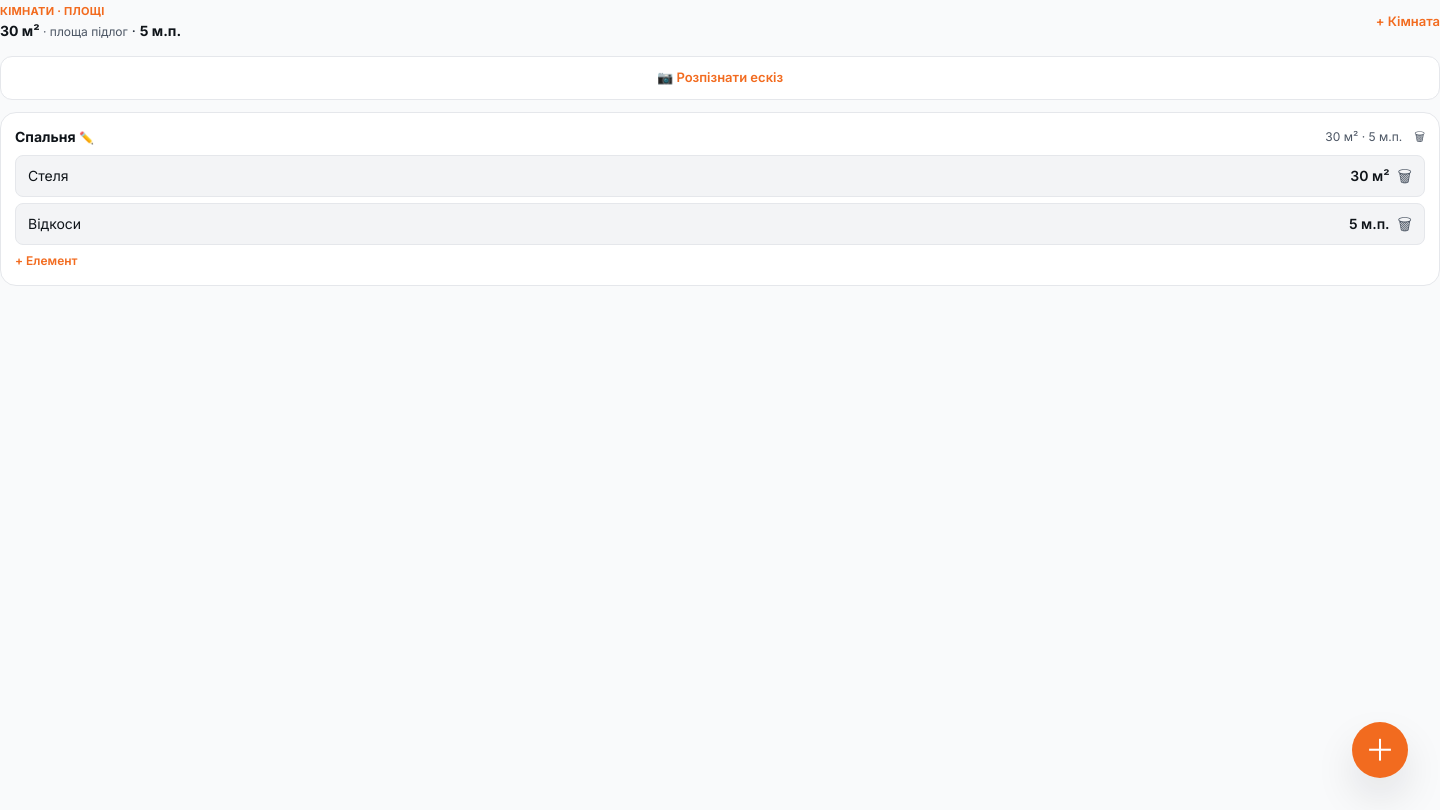
MeasurementsSection — площі vs ⚡ Електрика › PRO: the sketch button opens the sketch sheet
The width and height of the screenshot is (1440, 810).
Expected: the text "Кімнати · площі" is shown, top-left (0, 4), bottom-right (105, 18)
What coordinates should you click on to do the following:
click the button "📷 Розпізнати ескіз"
I would click on:
 (720, 78)
Its box is top-left (0, 56), bottom-right (1439, 100).
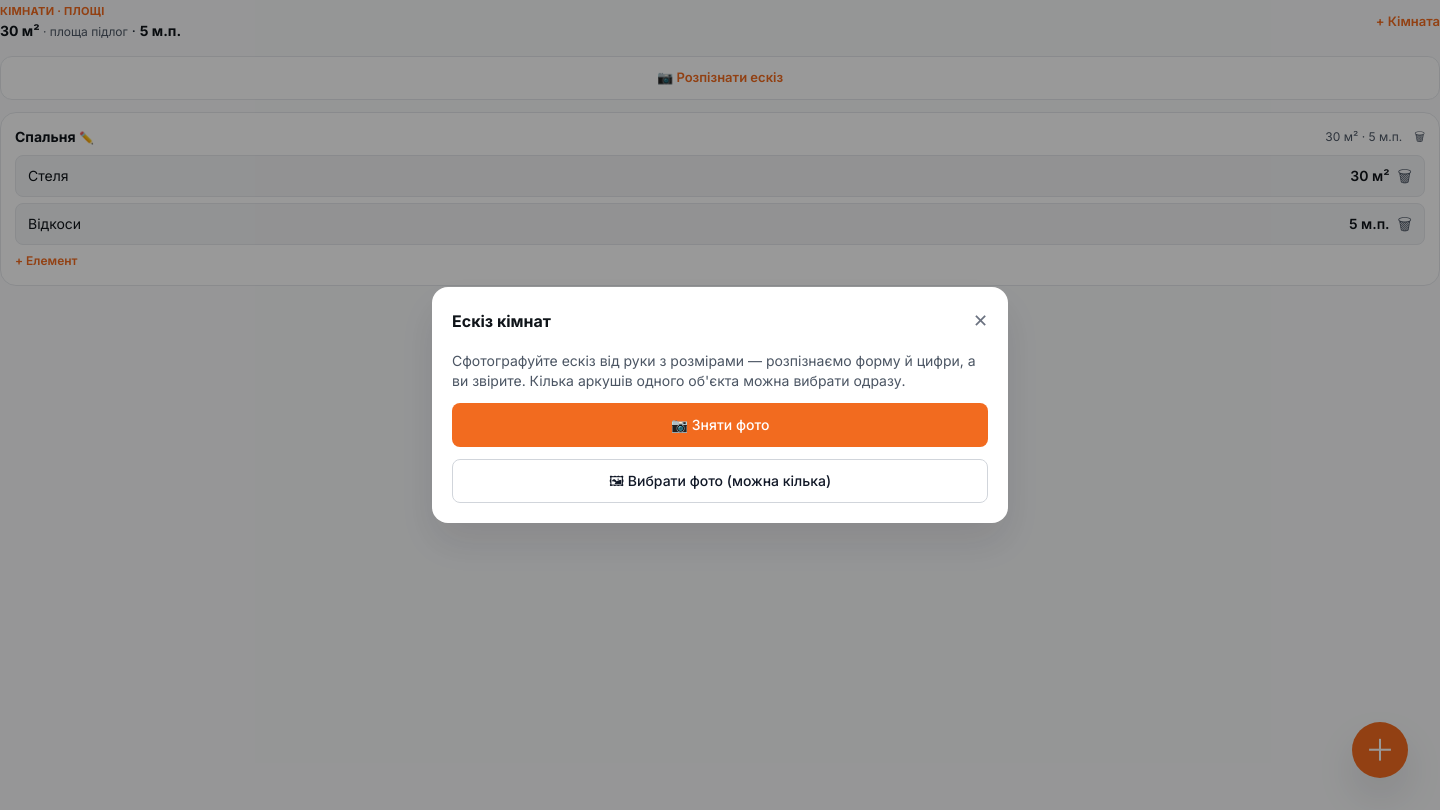
Result: the text "Сфотографуйте ескіз від руки" is shown at top-left (452, 352), bottom-right (976, 389)
